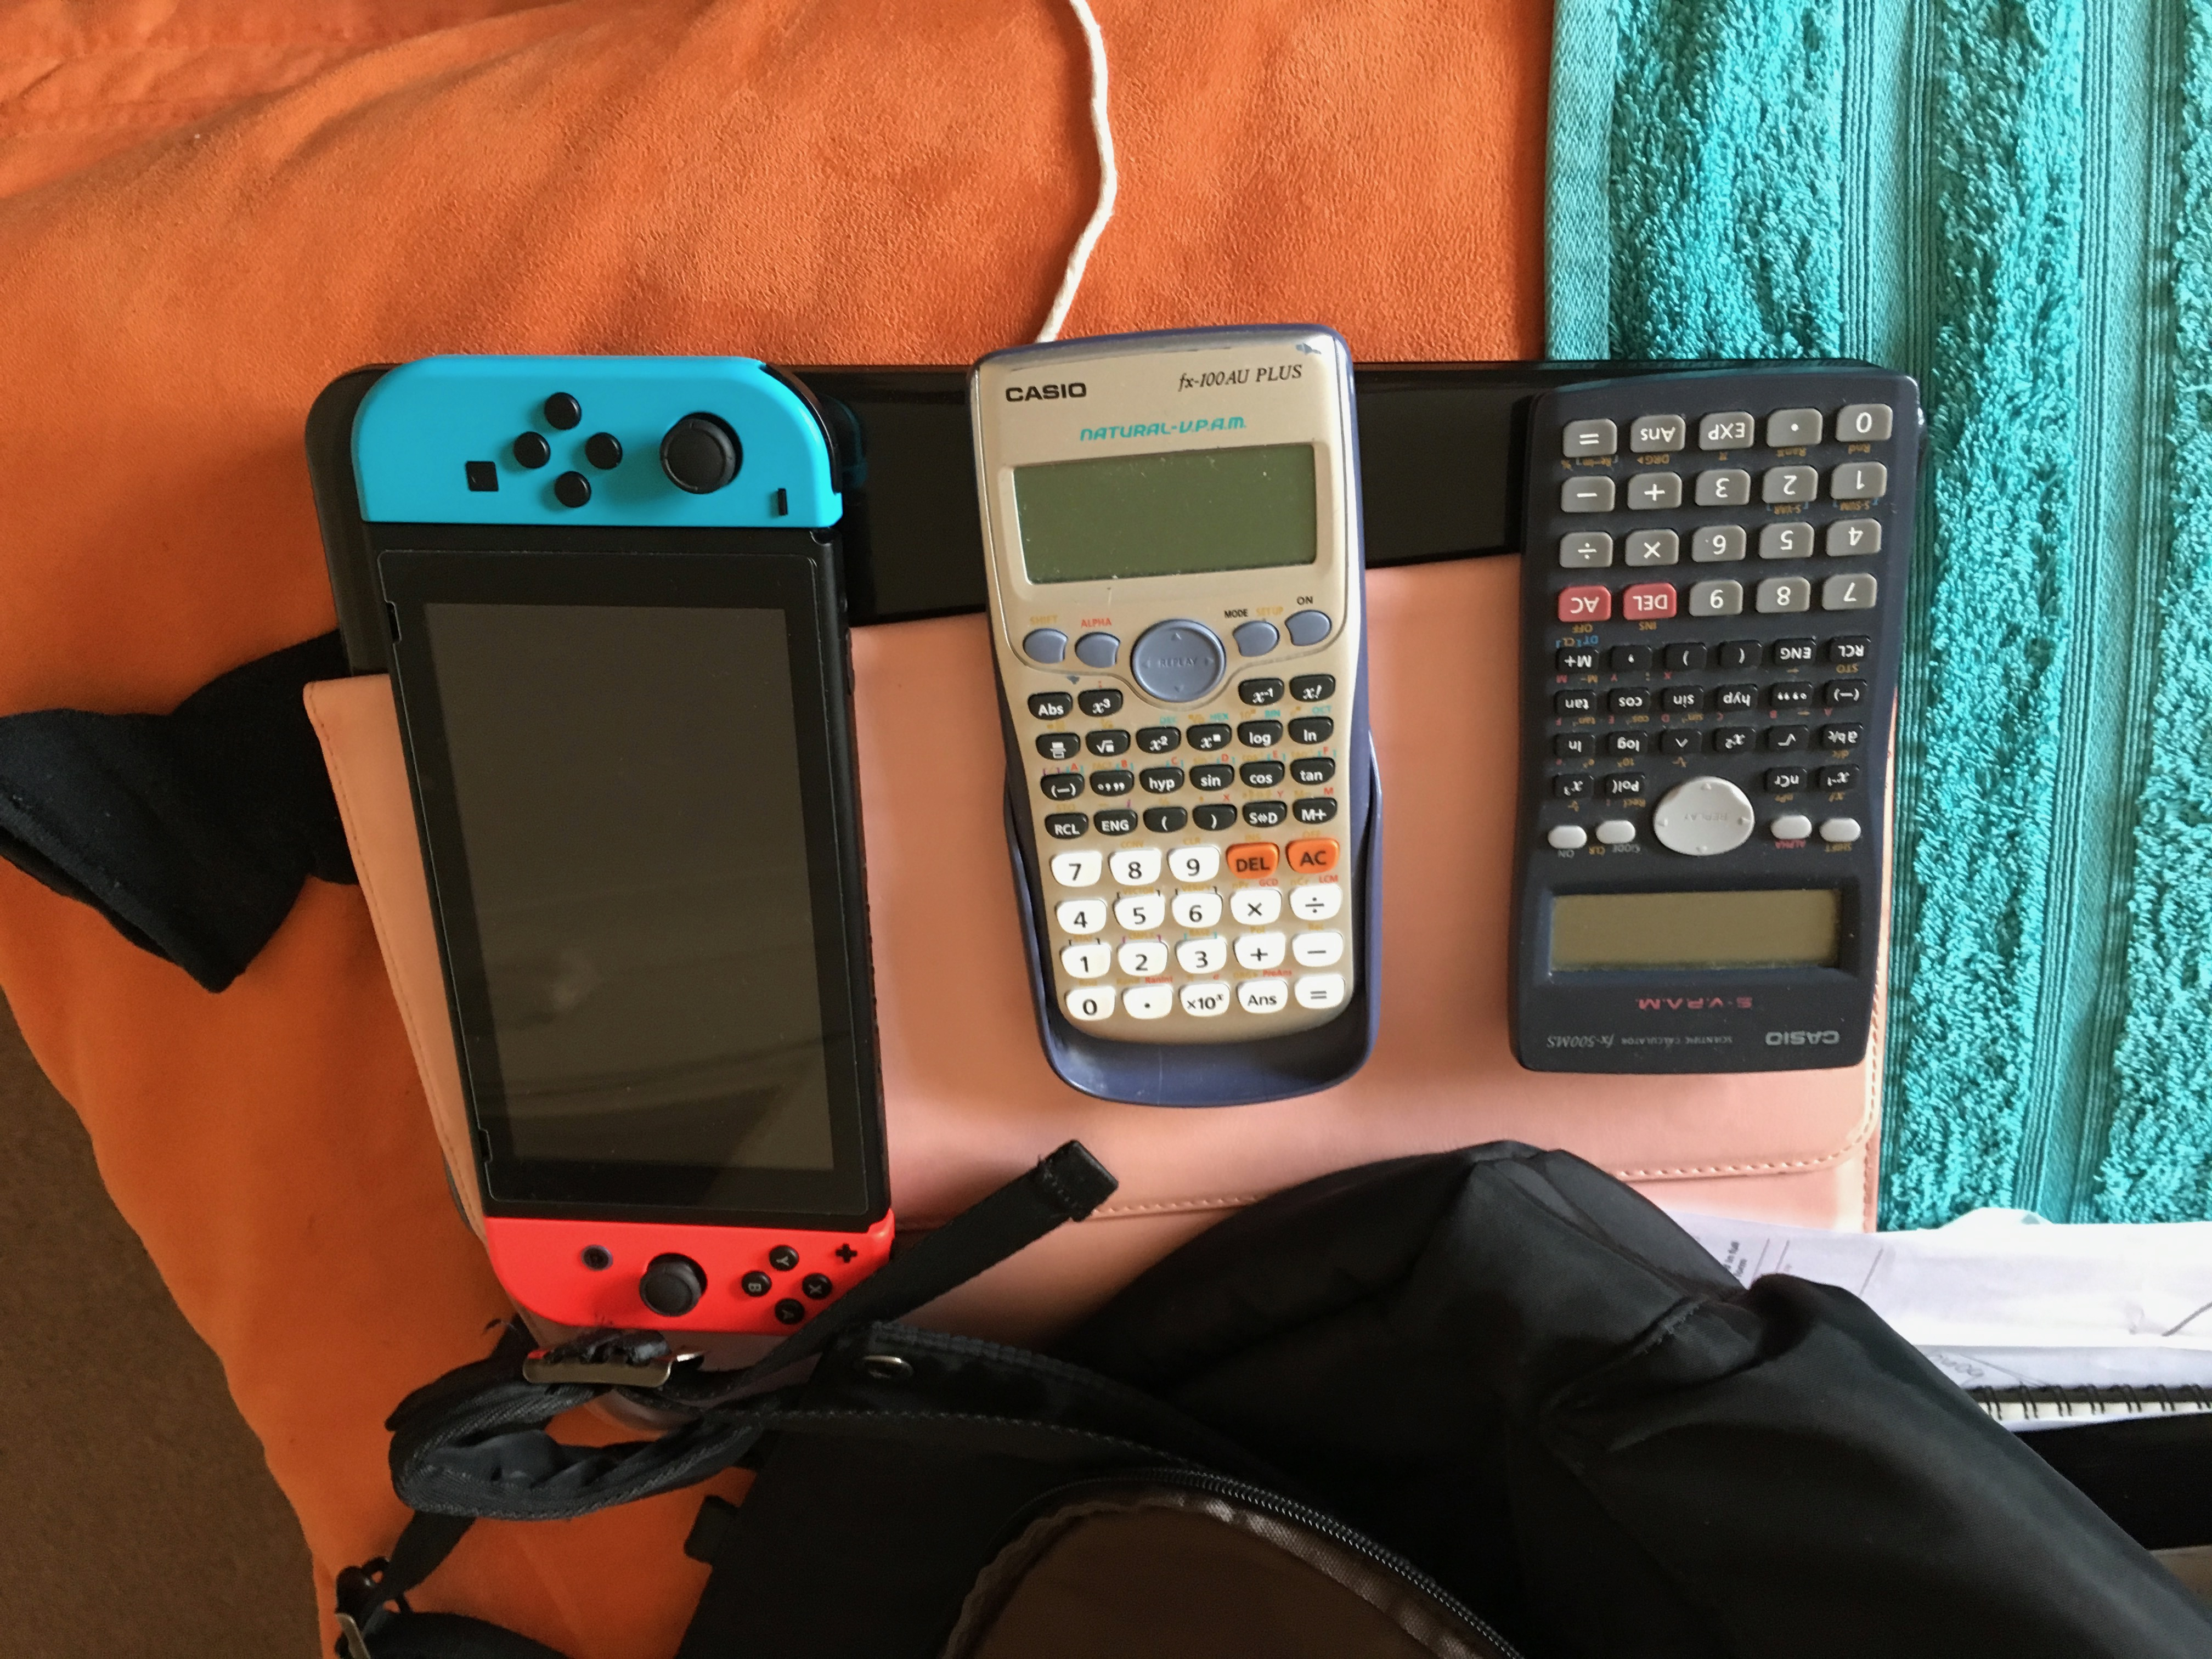Calculator: (951, 319, 1379, 1110), (1494, 354, 1919, 1086)
NintendoSwitch: (334, 345, 904, 1347)
